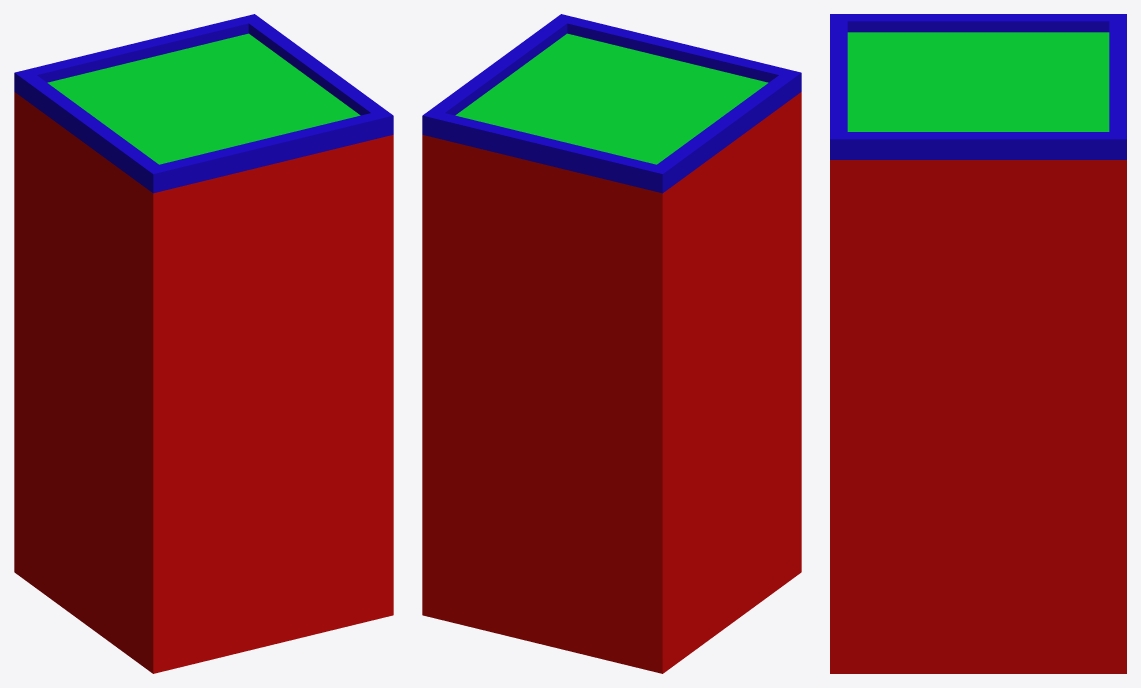
The model's file is Building1.fbx.
3 views of the same model, side by side, from view 1: azimuth 30°, elevation 25°; view 2: azimuth 150°, elevation 25°; view 3: azimuth 270°, elevation 25° (orthographic). The views are drawn at different scales.
Visible parts, largest first — view 1: Cube; view 2: Cube; view 3: Cube.
Part boxes in pixels (x1,y1,x2,y2): Cube: (14,14,393,673); Cube: (422,14,801,673); Cube: (830,14,1126,673).
Bounding box in the file's own units: 654 × 1299 × 654.
